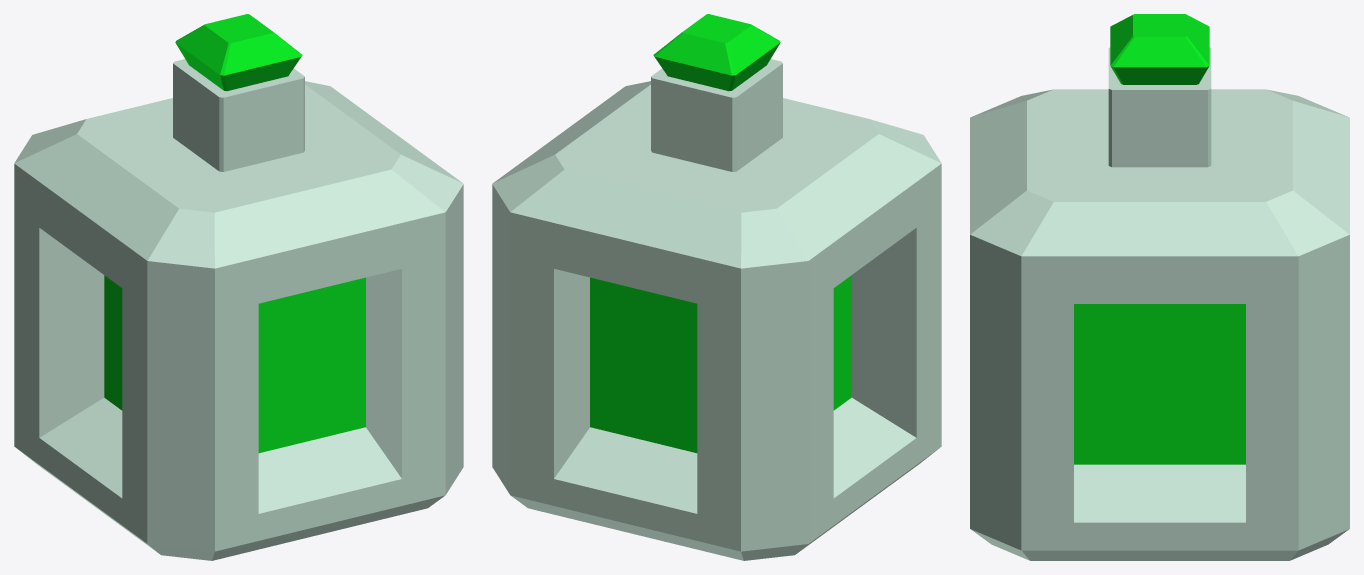
The model's file is Potion.fbx.
3 renders of one model, left to right at view 1: azimuth 30°, elevation 25°; view 2: azimuth 150°, elevation 25°; view 3: azimuth 270°, elevation 25°, orthographic. The views are drawn at different scales.
Parts seen in each view (by area): view 1: Cube; view 2: Cube; view 3: Cube.
Boxes of the visible parts, left/top/right/bottom form: Cube: left=14, top=14, right=463, bottom=560; Cube: left=492, top=14, right=941, bottom=560; Cube: left=970, top=14, right=1349, bottom=560.
Size of the model in its own units: 20 by 26.99 by 20.
